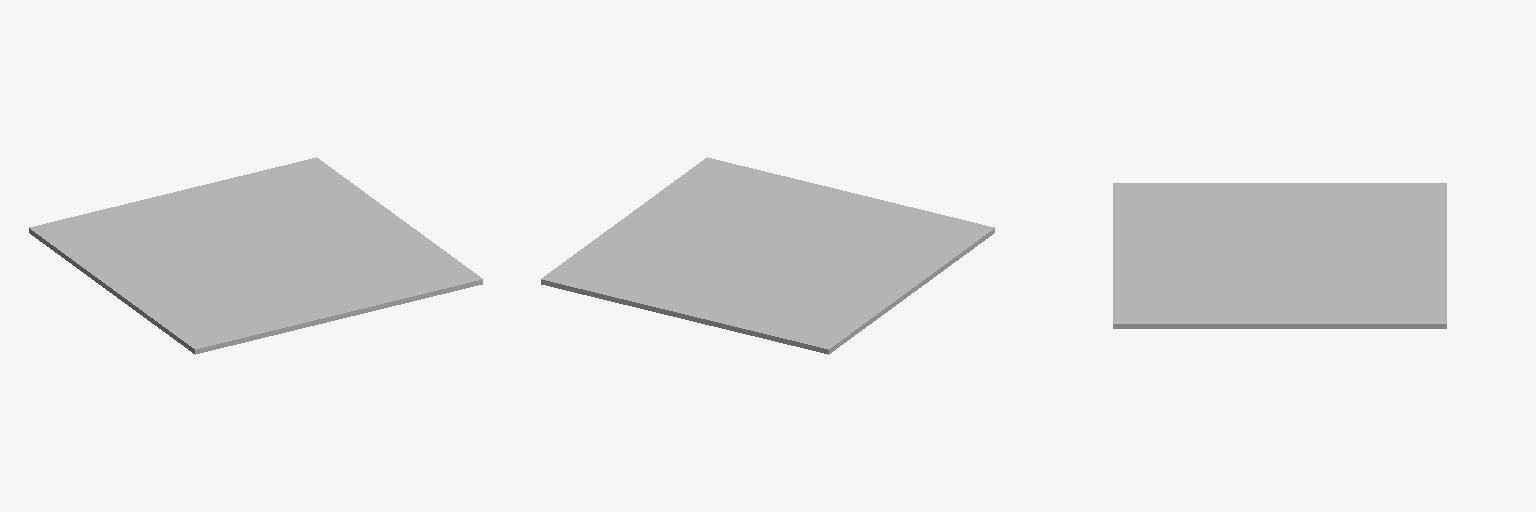
Rendered from Sol Salle 1.obj.
The picture shows the model from 3 angles: view 1: azimuth 30°, elevation 25°; view 2: azimuth 150°, elevation 25°; view 3: azimuth 270°, elevation 25°; orthographic projection.
Visible parts, largest first — view 1: object 1; view 2: object 1; view 3: object 1.
Boxes of the visible parts, box(x1,y1,x2,y2) form: object 1: box(29, 157, 482, 354); object 1: box(541, 157, 994, 354); object 1: box(1113, 183, 1446, 328).
Size of the model in its own units: 12 by 0.2 by 12.